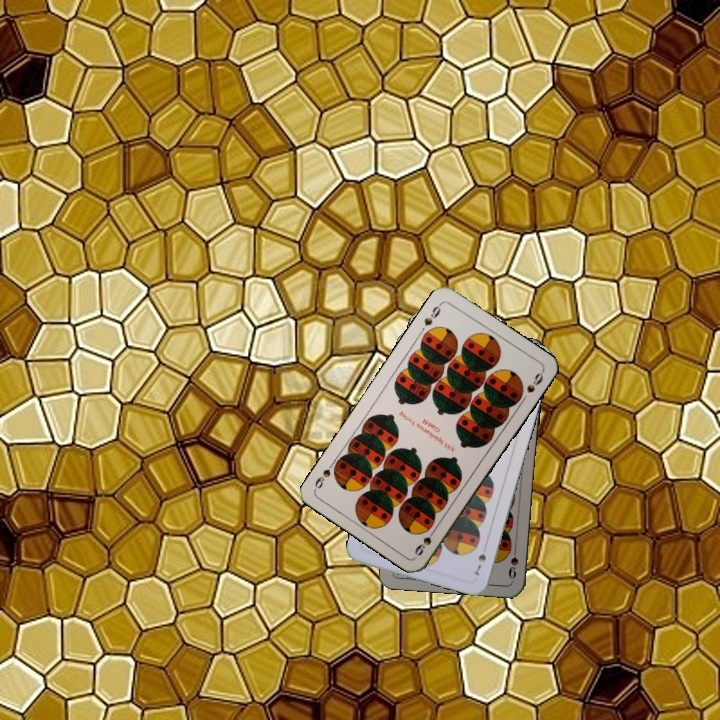S7: (471, 550, 489, 578)
S9: (411, 523, 439, 559), (420, 299, 444, 329), (504, 541, 521, 581)
